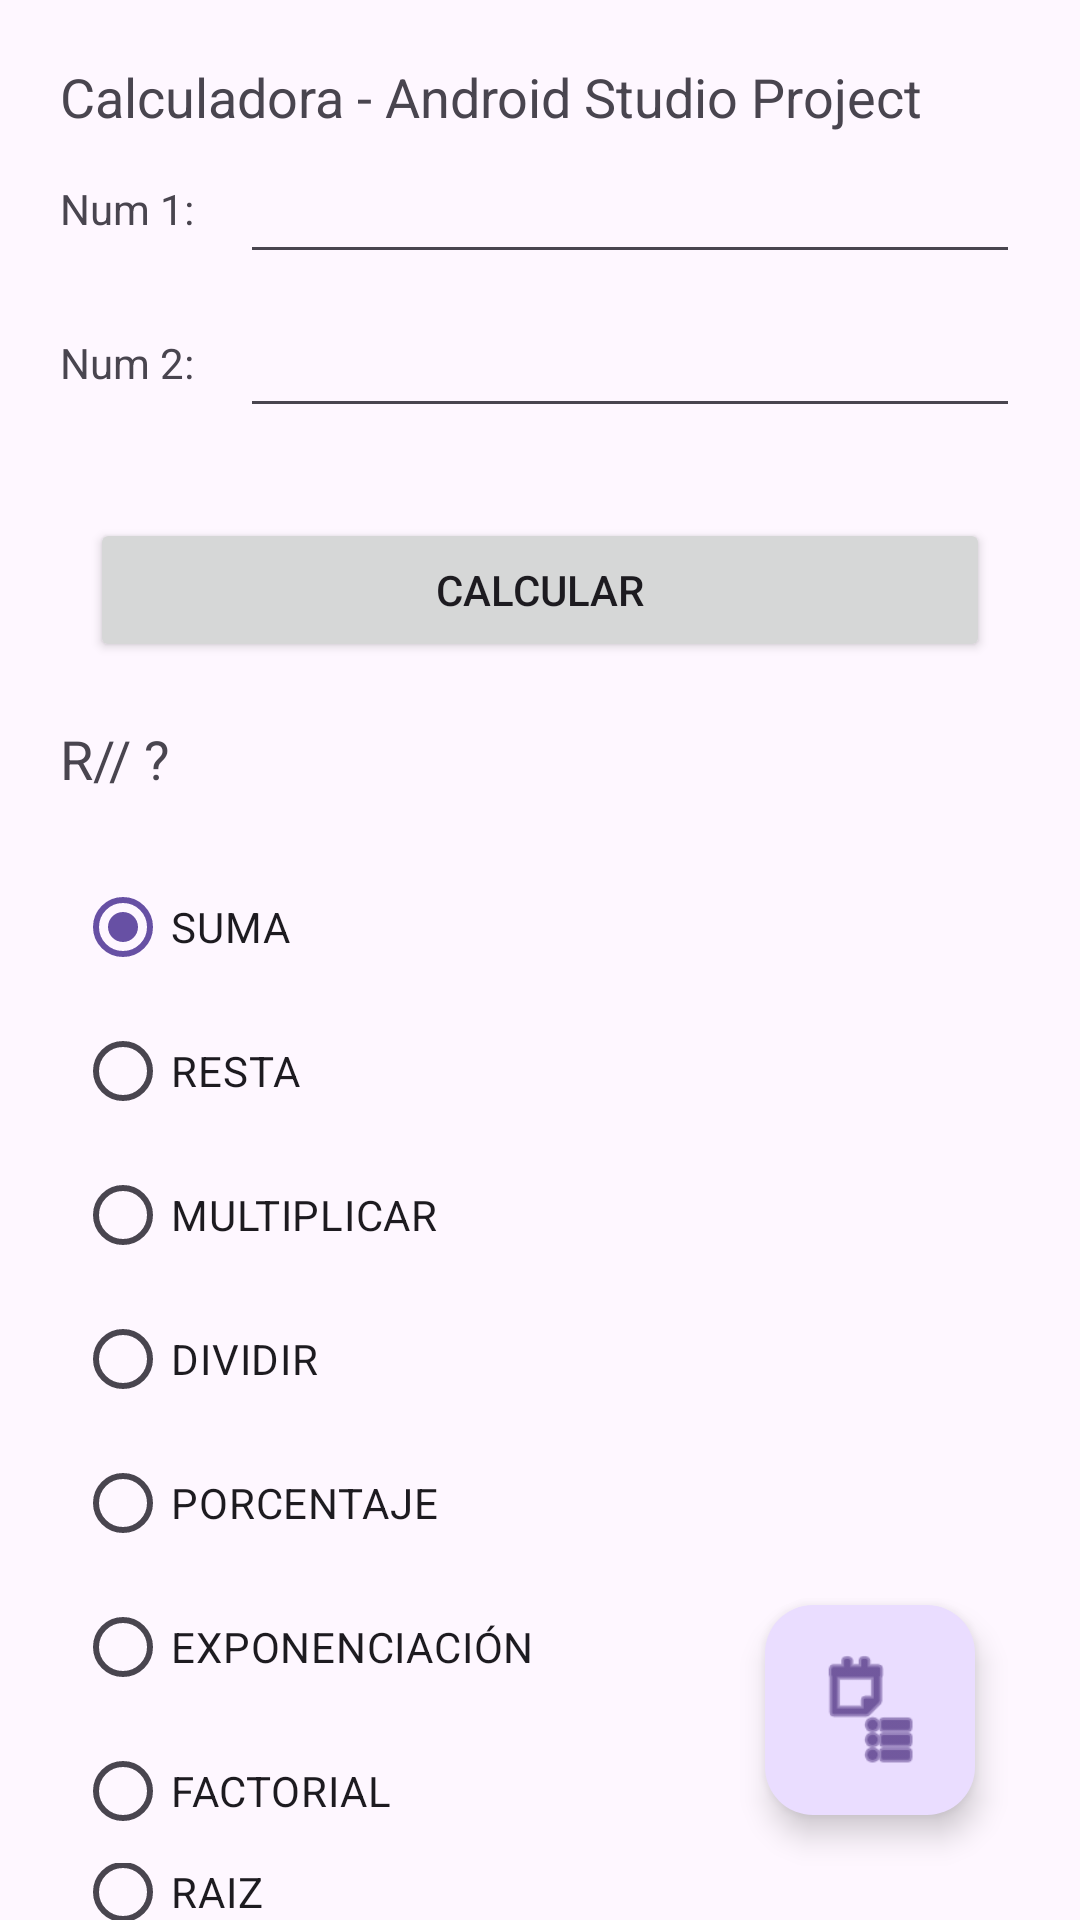

Icons on this 1080*1920 Android screen, each with the point to tap as (x,y):
agenda: (870,1710)
